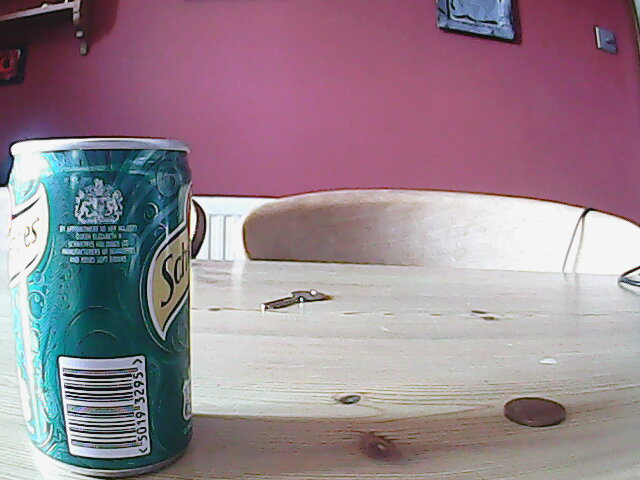Can: (6, 133, 197, 479)
Coin: (500, 395, 570, 430)
Key: (260, 287, 328, 314)
